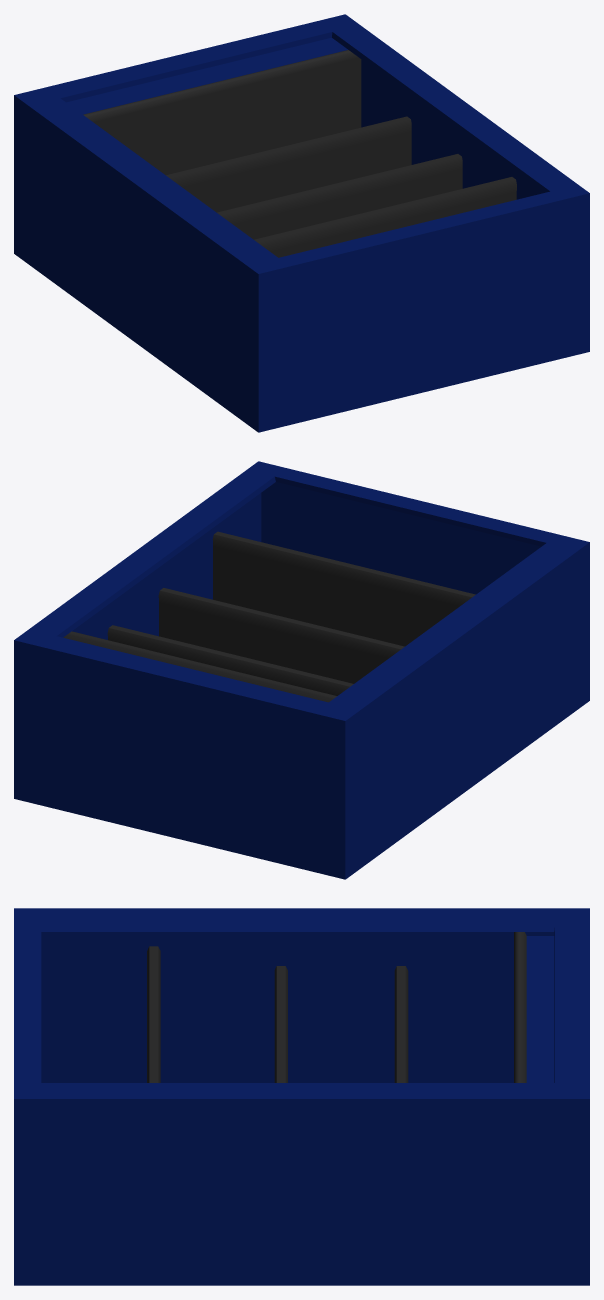
Rendered from ModStorageCloset.fbx.
3 renders of one model, top to bottom at view 1: azimuth 30°, elevation 25°; view 2: azimuth 150°, elevation 25°; view 3: azimuth 270°, elevation 25°, orthographic. The views are drawn at different scales.
Visible parts, largest first — view 1: StorageCloset; view 2: StorageCloset; view 3: StorageCloset.
Part boxes in pixels (x1,y1,x2,y2): StorageCloset: (14, 14, 589, 432); StorageCloset: (14, 461, 589, 879); StorageCloset: (14, 908, 589, 1285).
Bounding box in the file's own units: 222 × 102 × 284.
